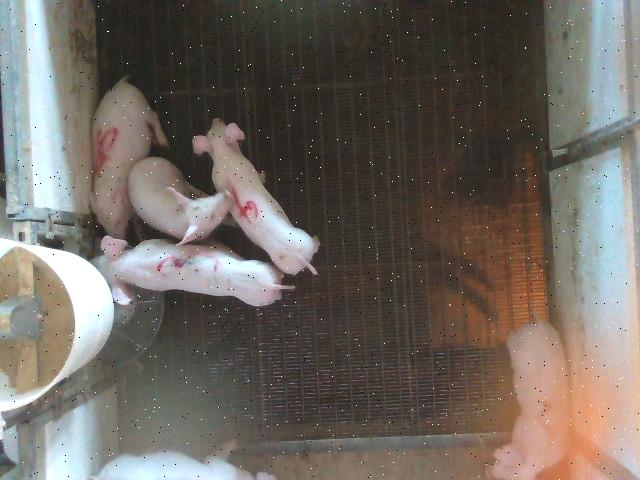pig-2: (490, 321, 570, 479)
pig-3: (91, 236, 294, 306)
pig-4: (194, 119, 319, 274)
pig-5: (90, 76, 168, 239)
